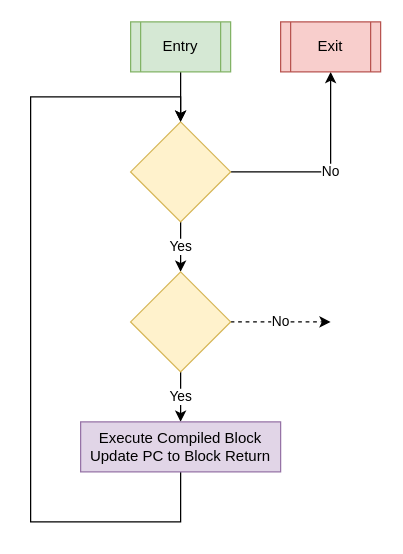
The diagram is 403 pixels wide and 554 high, and some of its shapes have lost their labels. The shapes that lost their labels are listed below. From the top down, each one's centre as x and y in pixels, then its label:
At point (180, 171): "Valid PC?".
At point (180, 321): "Compiled Block Exists?".
